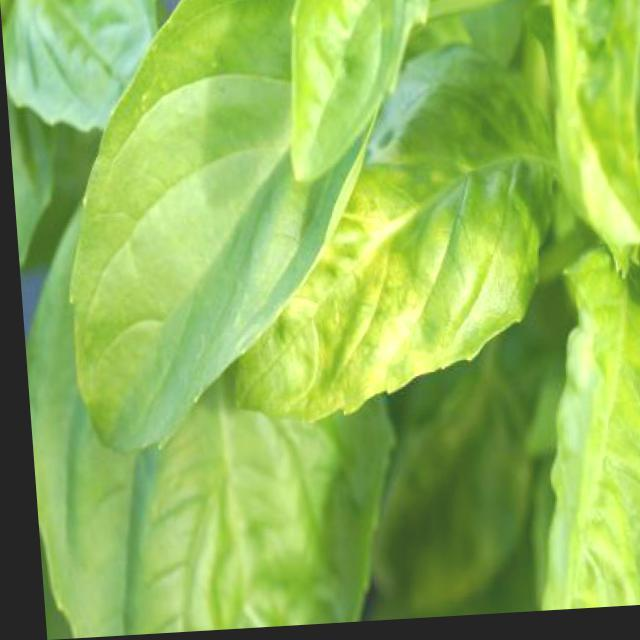Tomato bacterial spot leaf: (46, 0, 365, 456), (207, 51, 568, 426)
